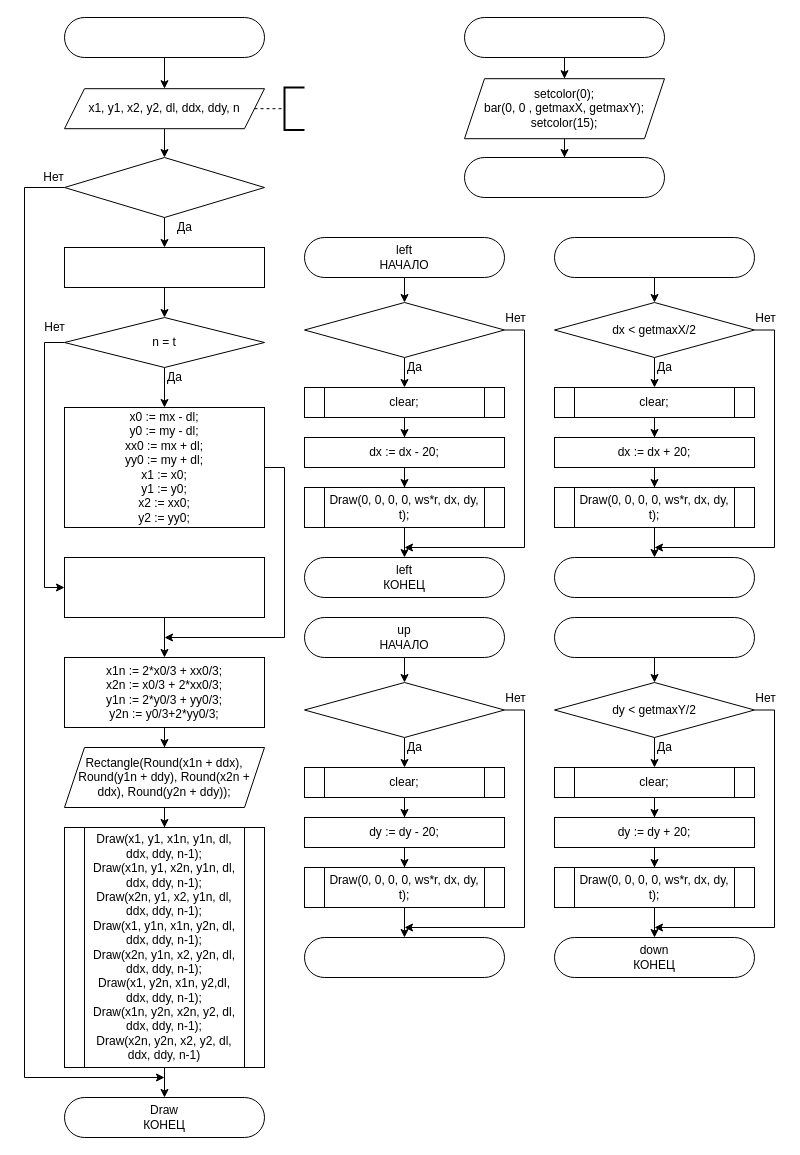
Some shapes in this 800 by 1155 pixel diagram are drawn without their labels. The shapes that lost their labels are listed below. From the top down, each one's centre as x and y in pixels, then its label:
At point 164,37: "Draw НАЧАЛО".
At point 564,37: "clear НАЧАЛО".
At point 294,108: "x1, y1, x2, y2, dl, ddx, ddy, n параметры по значению".
At point 164,187: "n > 0".
At point 564,177: "clear КОНЕЦ".
At point 164,267: "mx := getmaxX div 2; my := getmaxY div 2;".
At point 654,257: "right НАЧАЛО".
At point 404,330: "dx > -500".
At point 164,587: "x0 := x1; y0 := y1; xx0 := x2; yy0 := y2;".
At point 654,577: "right КОНЕЦ".
At point 654,637: "down НАЧАЛО".
At point 404,710: "dy > -500".
At point 404,957: "up КОНЕЦ".
